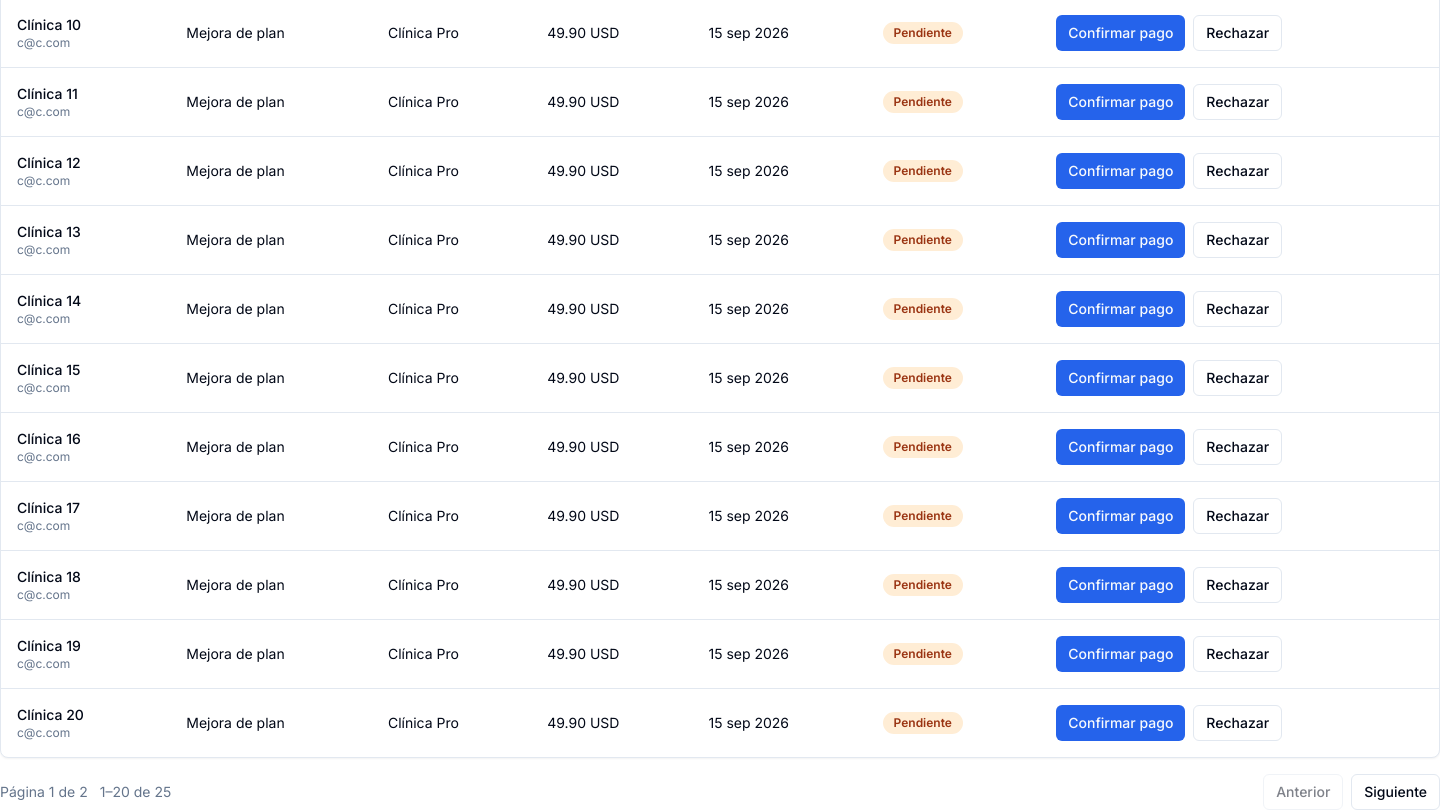
Test: PaymentsTable › pages a long list twenty payments at a time
The width and height of the screenshot is (1440, 810).
(page scrolled)
Expected: the link "Clínica 20" is shown, top-left (17, 706), bottom-right (84, 722)
Expected: the text "Clínica 21" is not shown
What coordinates should you click on to do the following:
click the button "Siguiente"
I would click on:
 (1396, 792)
Its box is top-left (1351, 774), bottom-right (1439, 809).
(page scrolled)
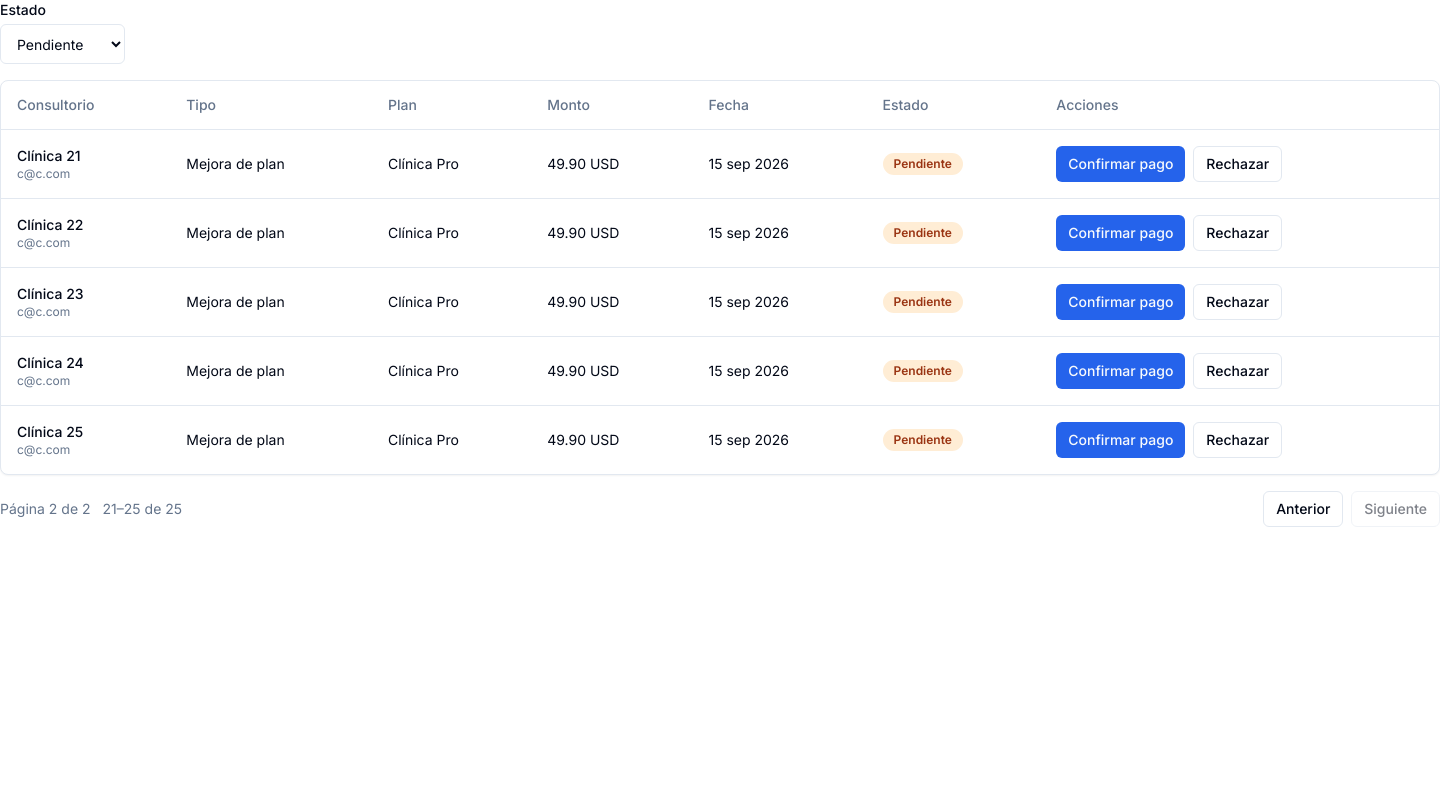
Now the link "Clínica 21" is shown, box top-left (17, 146), bottom-right (81, 164)
Now the link "Clínica 25" is shown, box top-left (17, 422), bottom-right (83, 440)
Now the link "Clínica 1" is gone
